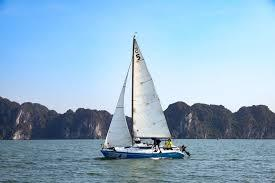Ship: (103, 37, 186, 159)
